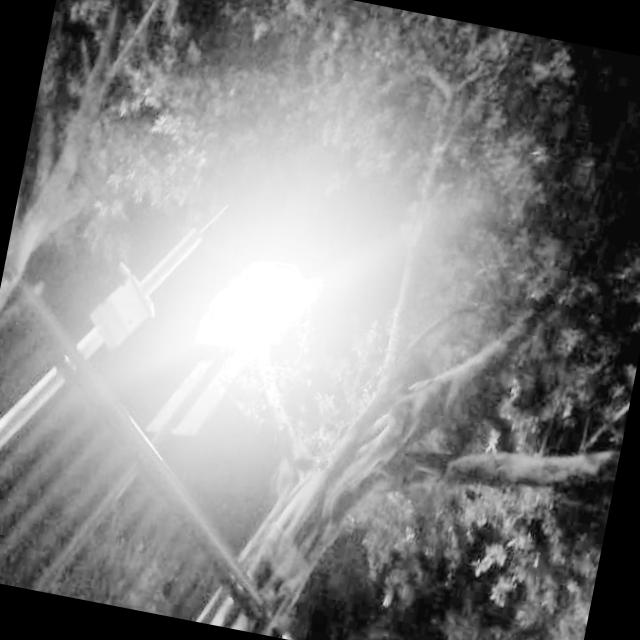Light: (215, 264, 302, 354)
Tree: (205, 214, 640, 640)
